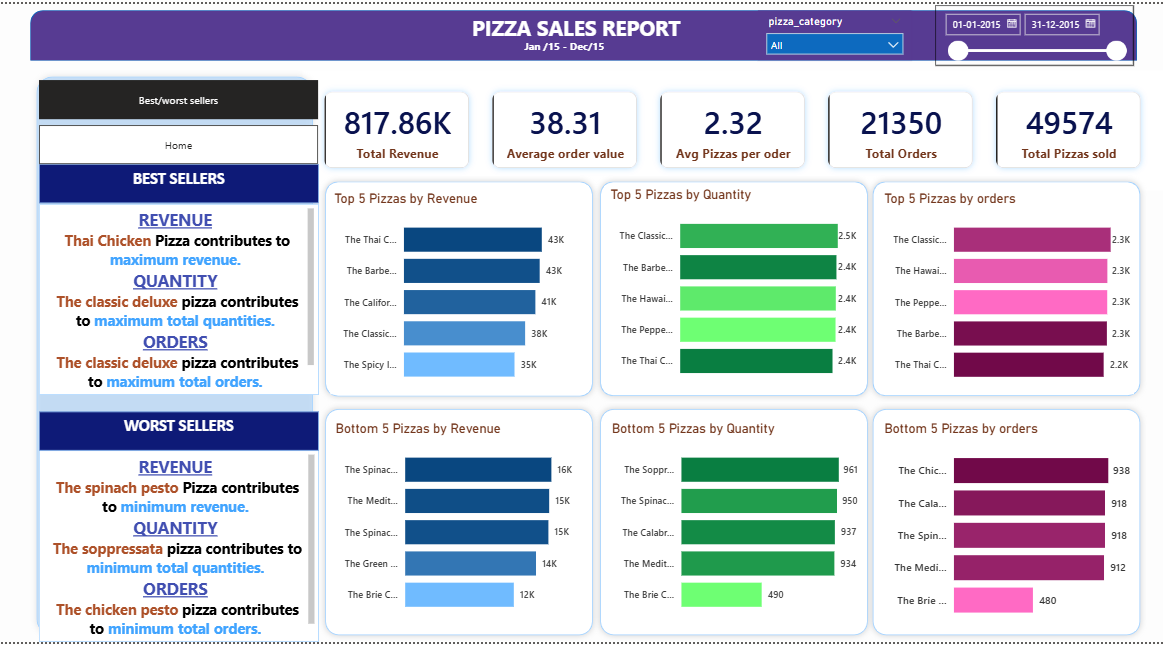

What the dashboard file says about the page in this screenshot:
{"tool":"powerbi","page":{"name":"Best/worst sellers","canvas":[1500,820],"ordinal":1},"visuals":[{"type":"cardVisual","fields":{"Data":["pizza_sales.Total Revenue","pizza_sales.Average order value","pizza_sales.Avg Pizzas per oder","pizza_sales.Total Orders","pizza_sales.Total Pizzas sold"]},"box":[390.8,85.2,1109.6,154.4],"z":0},{"type":"shape","box":[40,7.5,1423.8,65],"z":1000},{"type":"textbox","box":[575,7.5,333.8,46.2],"z":2000},{"type":"textbox","box":[669.9,40.4,341.2,32],"z":3000},{"type":"shape","box":[411.7,220.3,360.2,292.7],"z":4000},{"type":"shape","box":[40.2,85.2,371.5,734.9],"z":5000},{"type":"textbox","box":[51.6,206.5,359.8,50],"z":6000},{"type":"textbox","box":[51.6,256.5,359.8,245.2],"z":7000},{"type":"textbox","box":[51.5,574.1,360.2,246],"z":8000},{"type":"textbox","box":[51.6,524.3,359.8,50],"z":9000},{"type":"slicer","fields":{"Values":["pizza_sales.pizza_category"]},"box":[976.1,8,197.8,64.3],"z":10000},{"type":"shape","box":[765.4,220.3,360.2,292],"z":11000},{"type":"shape","box":[1116,220.3,360.2,292],"z":12000},{"type":"shape","box":[411.7,513,360.2,307.1],"z":13000},{"type":"shape","box":[765.4,513,360.2,307.1],"z":14000},{"type":"shape","box":[1116,513,360.2,307.1],"z":15000},{"type":"barChart","title":"Top 5 Pizzas by Revenue","fields":{"Category":["pizza_sales.pizza_name"],"Y":["pizza_sales.Total Revenue"]},"box":[426.1,239.6,326.4,262.1],"z":16000},{"type":"barChart","title":"Top 5 Pizzas by Quantity","fields":{"Category":["pizza_sales.pizza_name"],"Y":["pizza_sales.Total Pizzas sold"]},"box":[780.7,235,326.8,262.4],"z":17000},{"type":"barChart","title":"Bottom 5 Pizzas by Revenue","fields":{"Category":["pizza_sales.pizza_name"],"Y":["pizza_sales.Total Revenue"]},"box":[428.2,536.1,326.8,262.4],"z":18000},{"type":"barChart","title":"Bottom 5 Pizzas by Quantity","fields":{"Category":["pizza_sales.pizza_name"],"Y":["pizza_sales.Total Pizzas sold"]},"box":[782.4,536.1,326.8,262.4],"z":19000},{"type":"barChart","title":"Top 5 Pizzas by orders","fields":{"Category":["pizza_sales.pizza_name"],"Y":["pizza_sales.Total Orders"]},"box":[1133.3,239.9,326.8,262.4],"z":20000},{"type":"barChart","title":"Bottom 5 Pizzas by orders","fields":{"Category":["pizza_sales.pizza_name"],"Y":["pizza_sales.Total Orders"]},"box":[1133.3,536.1,326.8,270.4],"z":21000},{"type":"slicer","fields":{"Values":["pizza_sales.order_date"]},"box":[1205.1,1.6,254.9,77.4],"z":22000},{"type":"pageNavigator","box":[51.6,98.4,359.8,50],"z":22001},{"type":"pageNavigator","box":[51.6,156.5,359.8,50],"z":22002}]}

Visuals, with their boxes in screenshot pixels (x1, y1, x2, y2), scaled from the page's 1500x820 canvas onto the 1163x645 screenshot:
cardVisual - pizza_sales.Total Revenue x pizza_sales.Average order value: <bbox>303, 67, 1162, 188</bbox>
shape: <bbox>31, 6, 1135, 57</bbox>
textbox: <bbox>446, 6, 705, 42</bbox>
textbox: <bbox>519, 32, 784, 57</bbox>
shape: <bbox>319, 173, 598, 404</bbox>
shape: <bbox>31, 67, 319, 644</bbox>
textbox: <bbox>40, 162, 319, 202</bbox>
textbox: <bbox>40, 202, 319, 395</bbox>
textbox: <bbox>40, 452, 319, 644</bbox>
textbox: <bbox>40, 412, 319, 452</bbox>
slicer - pizza_sales.pizza_category: <bbox>757, 6, 910, 57</bbox>
shape: <bbox>593, 173, 873, 403</bbox>
shape: <bbox>865, 173, 1145, 403</bbox>
shape: <bbox>319, 404, 598, 644</bbox>
shape: <bbox>593, 404, 873, 644</bbox>
shape: <bbox>865, 404, 1145, 644</bbox>
"Top 5 Pizzas by Revenue" barChart: <bbox>330, 188, 583, 395</bbox>
"Top 5 Pizzas by Quantity" barChart: <bbox>605, 185, 859, 391</bbox>
"Bottom 5 Pizzas by Revenue" barChart: <bbox>332, 422, 585, 628</bbox>
"Bottom 5 Pizzas by Quantity" barChart: <bbox>607, 422, 860, 628</bbox>
"Top 5 Pizzas by orders" barChart: <bbox>879, 189, 1132, 395</bbox>
"Bottom 5 Pizzas by orders" barChart: <bbox>879, 422, 1132, 634</bbox>
slicer - pizza_sales.order_date: <bbox>934, 1, 1132, 62</bbox>
pageNavigator: <bbox>40, 77, 319, 117</bbox>
pageNavigator: <bbox>40, 123, 319, 162</bbox>
